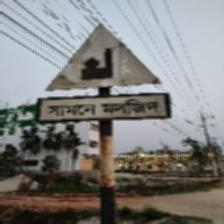Mosque in front: (37, 23, 168, 124)
